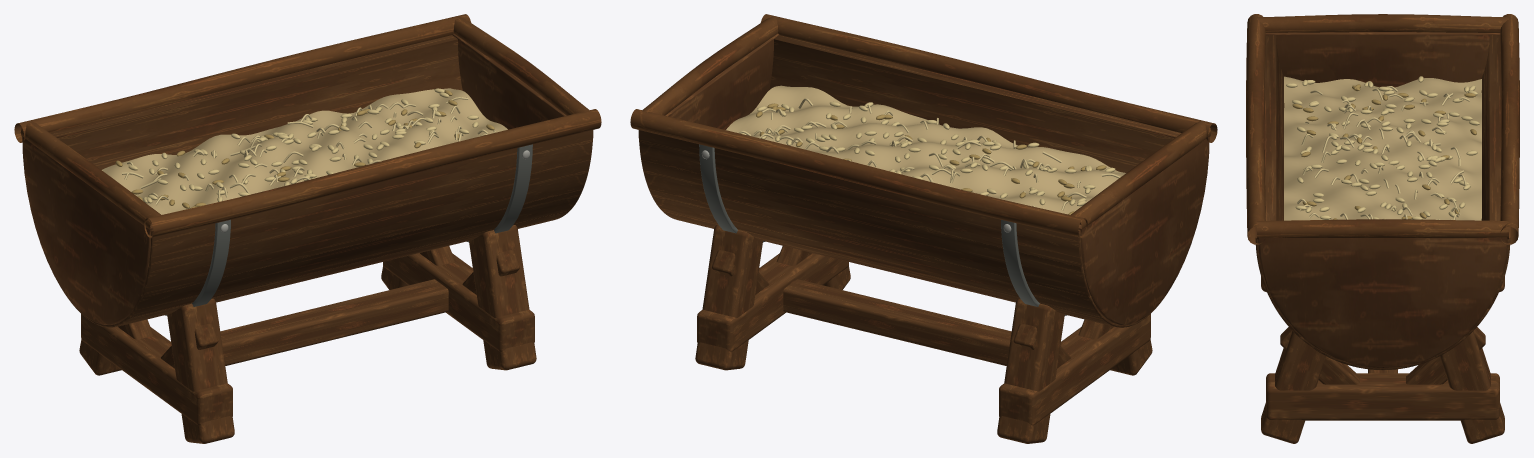
File: corealm_feed_trough.glb
The picture shows the model from 3 angles, left to right: view 1: azimuth 30°, elevation 25°; view 2: azimuth 150°, elevation 25°; view 3: azimuth 270°, elevation 25°; orthographic projection. The views are drawn at different scales.
Parts seen in each view (by area): view 1: corealm_feed_trough-timber, corealm_feed_trough-straw, corealm_feed_trough-iron; view 2: corealm_feed_trough-timber, corealm_feed_trough-straw, corealm_feed_trough-iron; view 3: corealm_feed_trough-timber, corealm_feed_trough-straw.
Part boxes in pixels (left/top/right/bottom): corealm_feed_trough-timber: left=14, top=14, right=601, bottom=443; corealm_feed_trough-straw: left=102, top=88, right=507, bottom=214; corealm_feed_trough-iron: left=165, top=144, right=532, bottom=315; corealm_feed_trough-timber: left=630, top=14, right=1217, bottom=443; corealm_feed_trough-straw: left=726, top=85, right=1125, bottom=214; corealm_feed_trough-iron: left=699, top=144, right=1066, bottom=315; corealm_feed_trough-timber: left=1246, top=14, right=1519, bottom=443; corealm_feed_trough-straw: left=1284, top=76, right=1481, bottom=220.
Bounding box in the file's own units: 1.4 × 0.76 × 0.76.
Materials: 3 (1 with a texture image).
